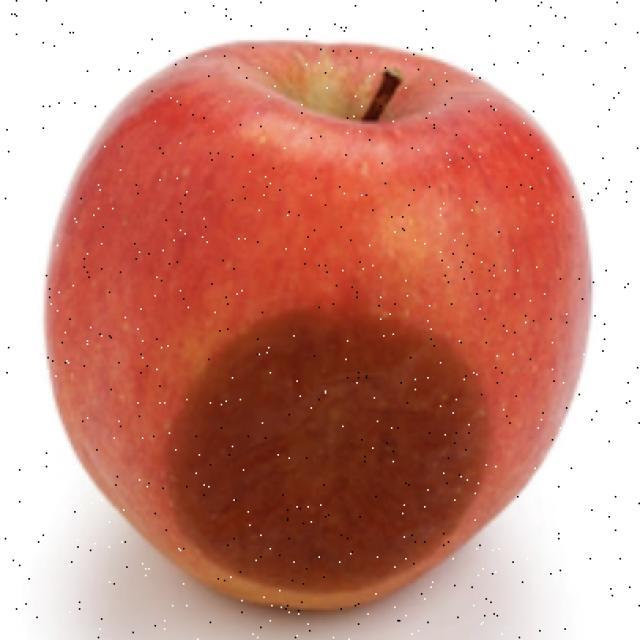Rotten: (87, 67, 583, 610)
